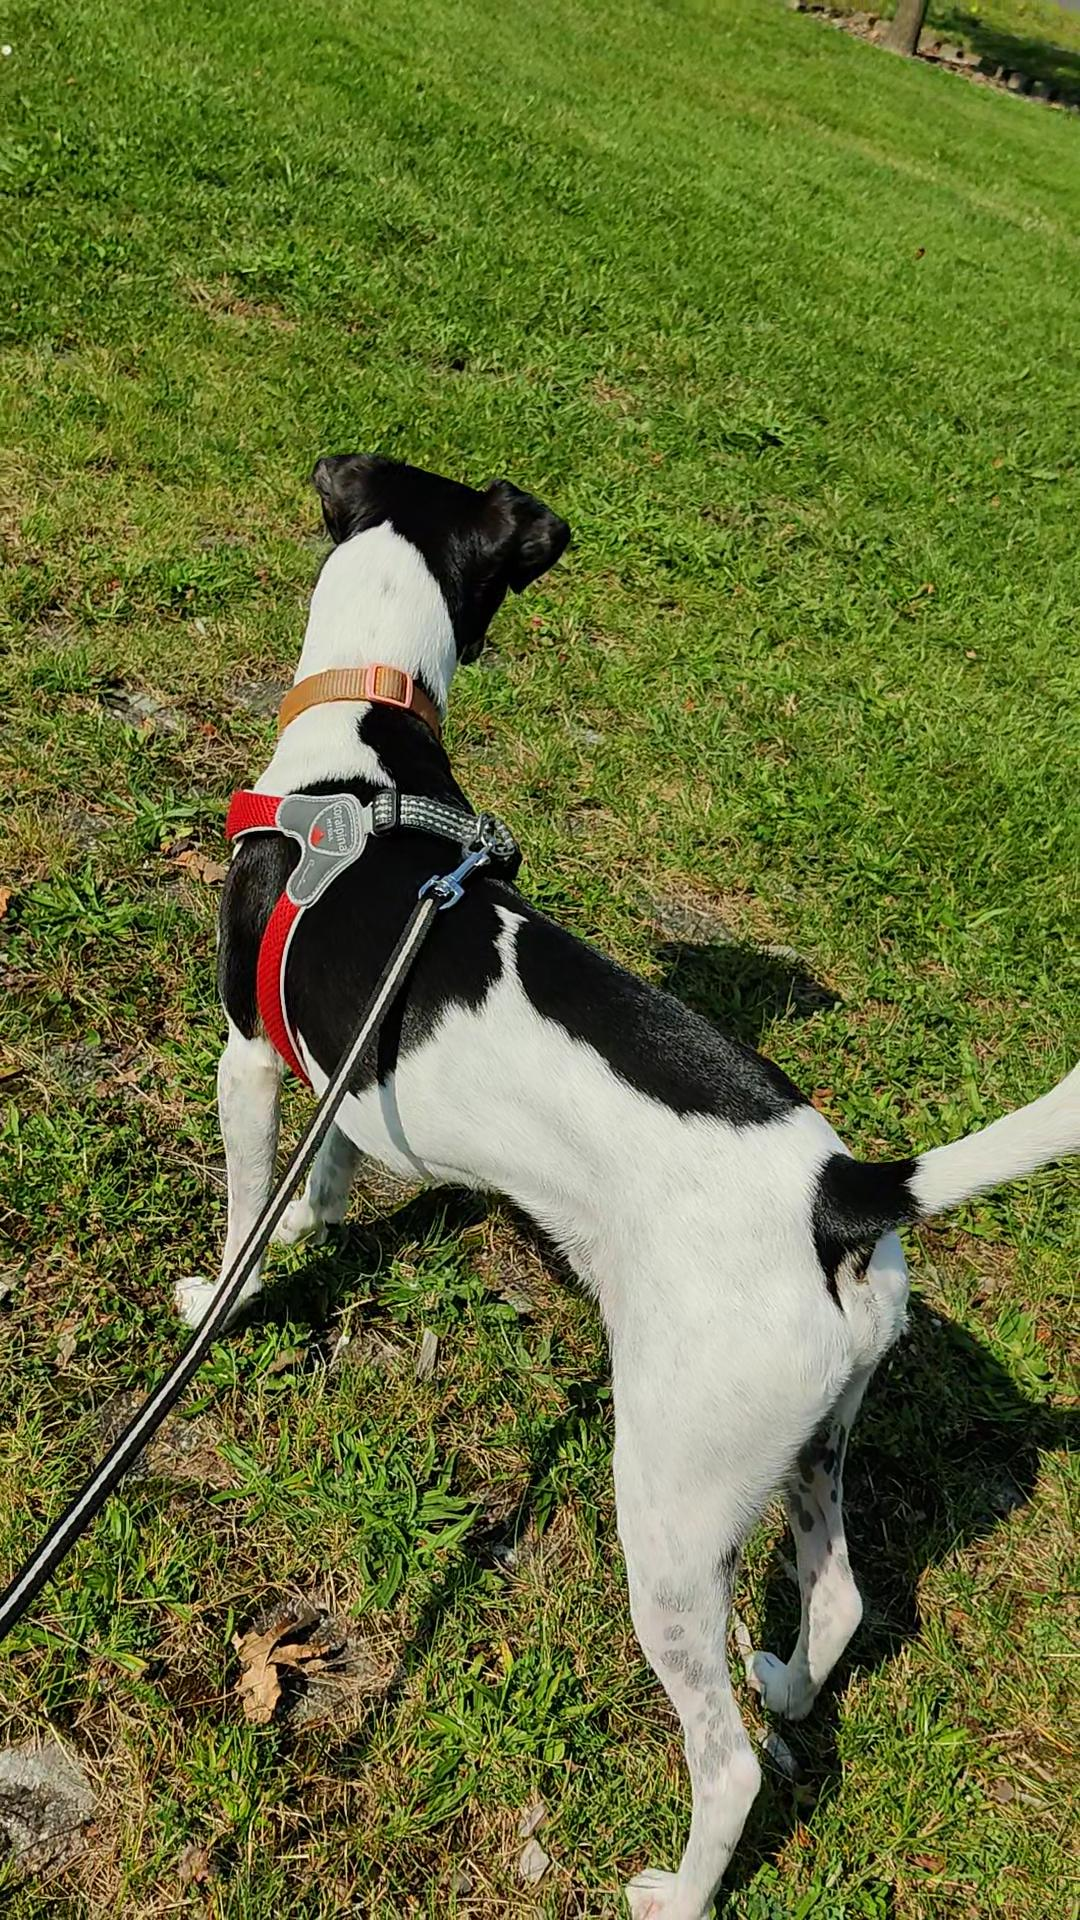Dog: (164, 444, 1079, 1919)
